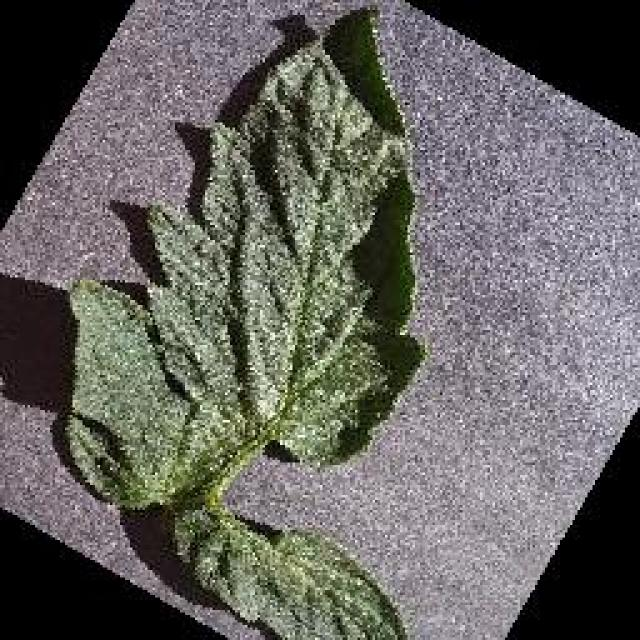Tomato___healthy: (61, 3, 432, 638)
